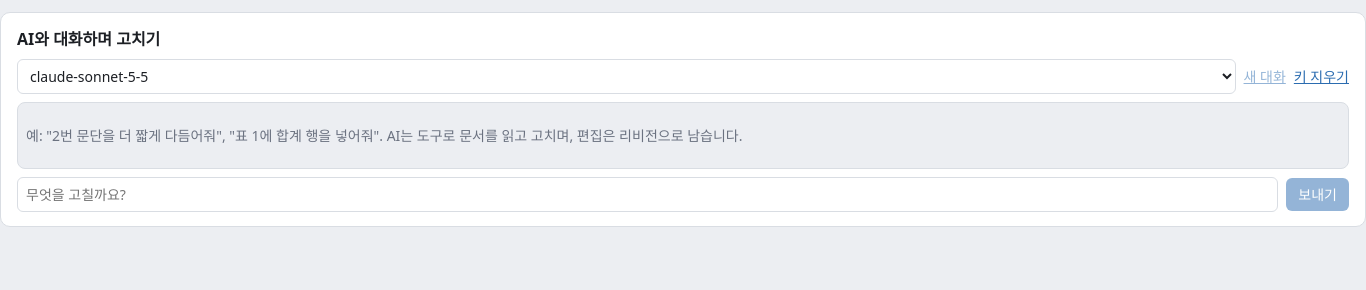
ChatPanel › 게이트웨이 오류 이벤트를 보여 준다
Type "안녕" into the field named "AI에게 보낼 글" at (648, 194), box [17, 177, 1278, 212]
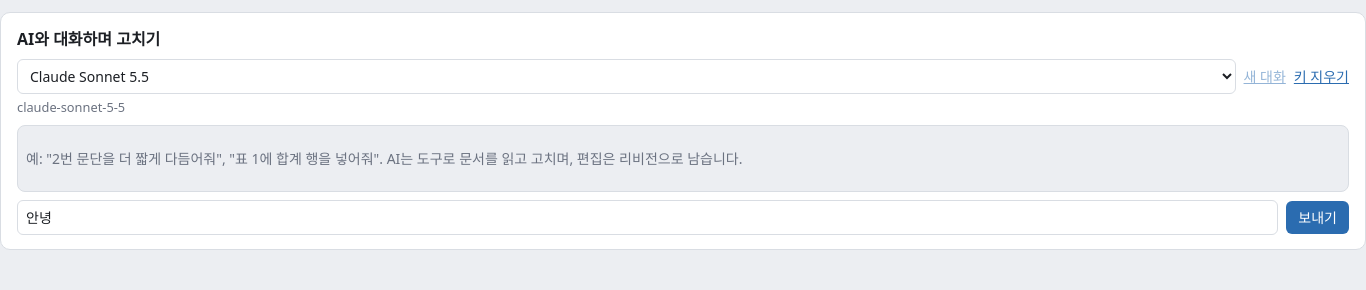
Click the button "보내기" at (1318, 218), box [1286, 201, 1349, 234]
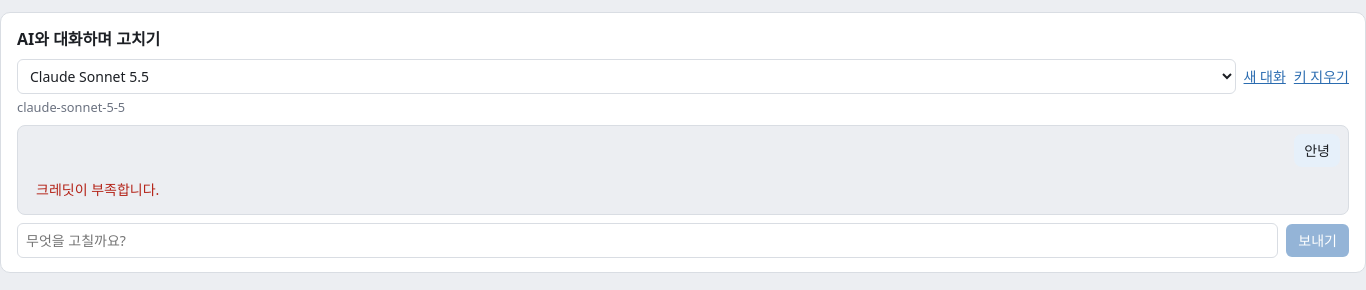
Now the text "크레딧이 부족합니다." is shown, box [36, 180, 159, 199]
